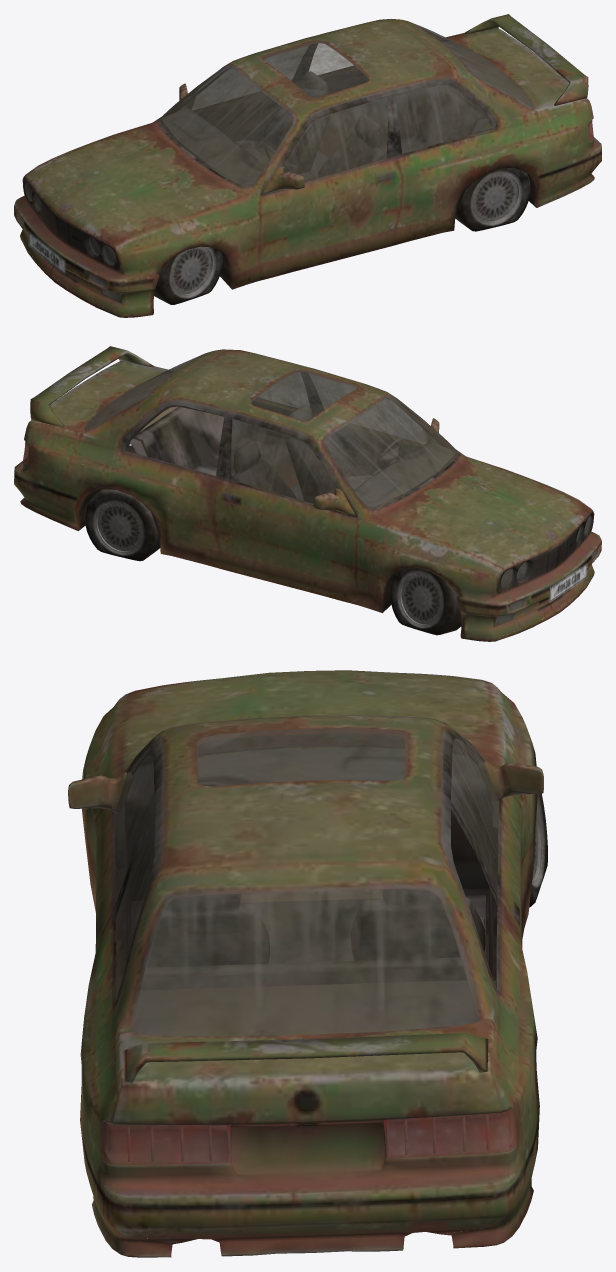
The model's file is car_bmw.glb.
3 views of the same model, one above another, from view 1: azimuth 30°, elevation 25°; view 2: azimuth 150°, elevation 25°; view 3: azimuth 270°, elevation 25° (orthographic). The views are drawn at different scales.
Parts seen in each view (by area): view 1: Object_3, Object_2; view 2: Object_3, Object_2; view 3: Object_3, Object_2.
Part boxes in pixels (x1=…): Object_3: x1=14, y1=19, x2=601, y2=316; Object_2: x1=14, y1=14, x2=601, y2=317; Object_3: x1=14, y1=349, x2=600, y2=641; Object_2: x1=14, y1=346, x2=601, y2=641; Object_3: x1=68, y1=670, x2=543, y2=1256; Object_2: x1=68, y1=728, x2=547, y2=1257.
Size of the model in its own units: 4326 by 1295 by 1760.
1 material, 1 textured.
